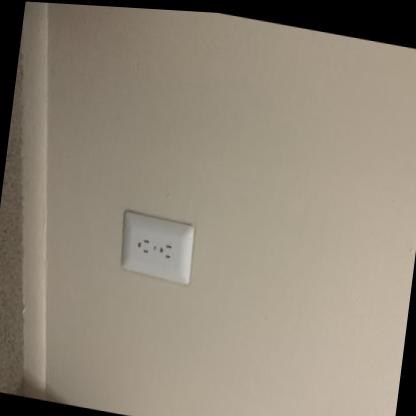OUTLET: (117, 210, 194, 283)
